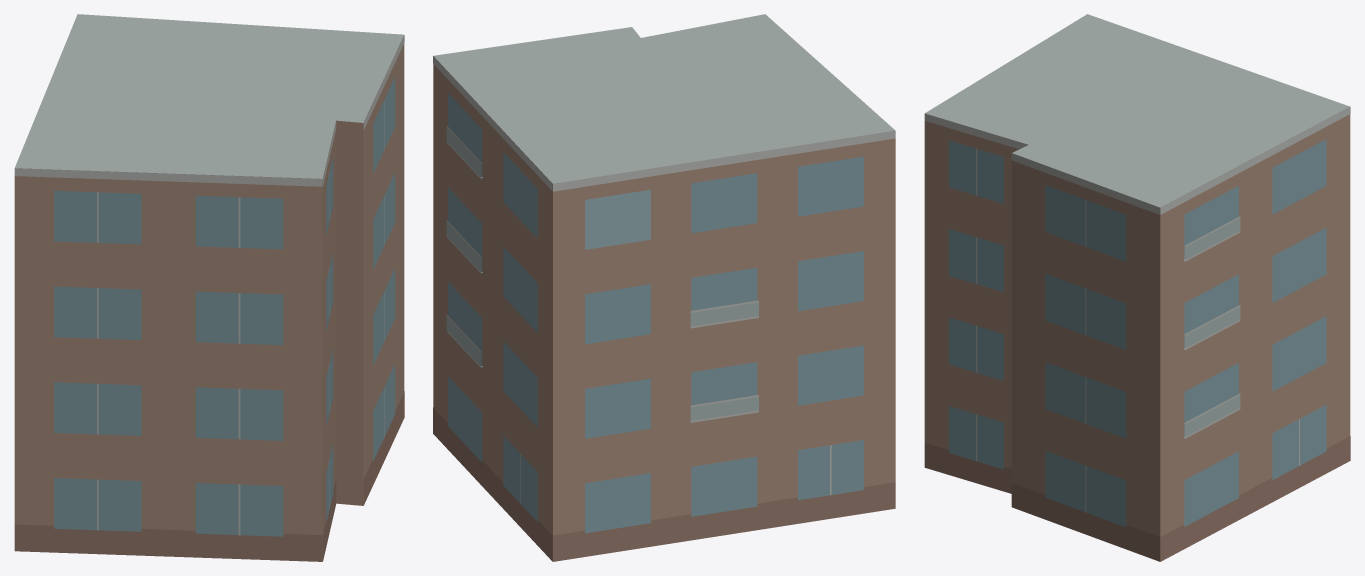
The model's file is survey-upis-32949322.glb.
3 renders of one model, left to right at view 1: azimuth 30°, elevation 25°; view 2: azimuth 150°, elevation 25°; view 3: azimuth 270°, elevation 25°, orthographic. The views are drawn at different scales.
Visible parts, largest first — view 1: survey-upis-32949322.tmp; view 2: survey-upis-32949322.tmp; view 3: survey-upis-32949322.tmp.
Part boxes in pixels (x1,y1,x2,y2): survey-upis-32949322.tmp: (14, 14, 404, 561); survey-upis-32949322.tmp: (433, 14, 895, 561); survey-upis-32949322.tmp: (924, 14, 1350, 561).
Size of the model in its own units: 13.85 by 11.8 by 12.86.
